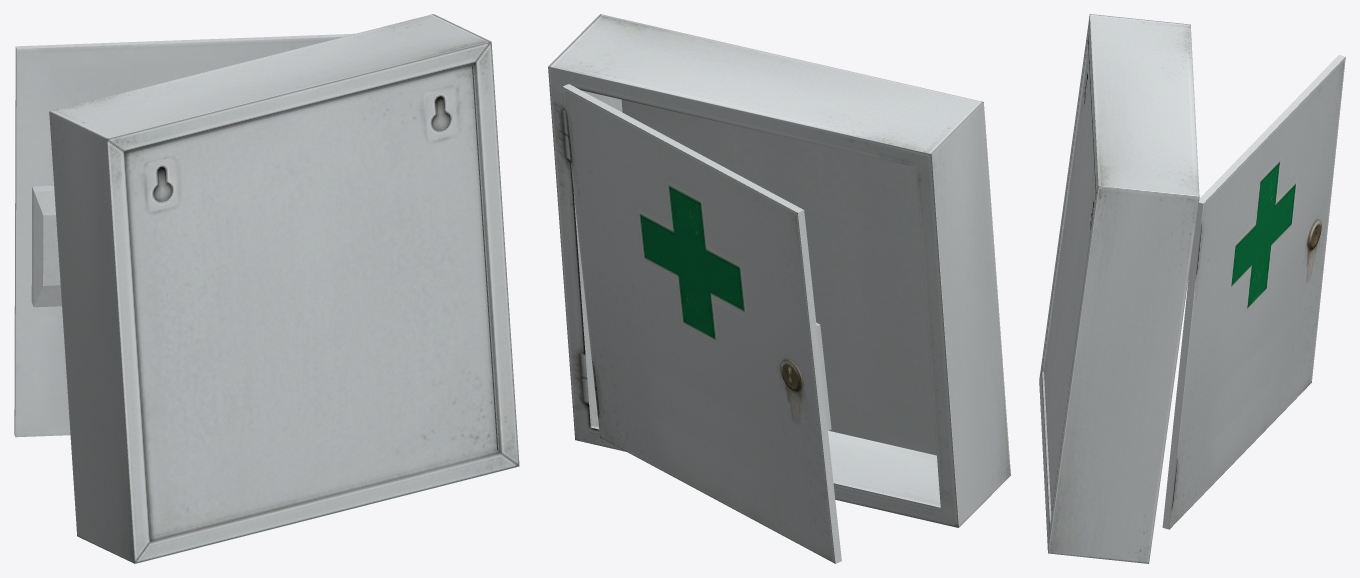
File: medical_cabinet.glb
The picture shows the model from 3 angles, left to right: view 1: azimuth 30°, elevation 25°; view 2: azimuth 150°, elevation 25°; view 3: azimuth 270°, elevation 25°; orthographic projection. The views are drawn at different scales.
Visible parts, largest first — view 1: Box_Base_0, Door_Base_0; view 2: Box_Base_0, Door_Base_0; view 3: Box_Base_0, Door_Base_0.
Part boxes in pixels (x1,y1,x2,y2): Box_Base_0: [49, 14, 519, 563]; Door_Base_0: [14, 33, 355, 437]; Box_Base_0: [548, 14, 1010, 527]; Door_Base_0: [562, 84, 841, 563]; Box_Base_0: [1039, 14, 1199, 563]; Door_Base_0: [1162, 55, 1345, 529].
Bounding box in the file's own units: 0.8042 × 0.8208 × 0.6021.
1 material, 1 textured.
